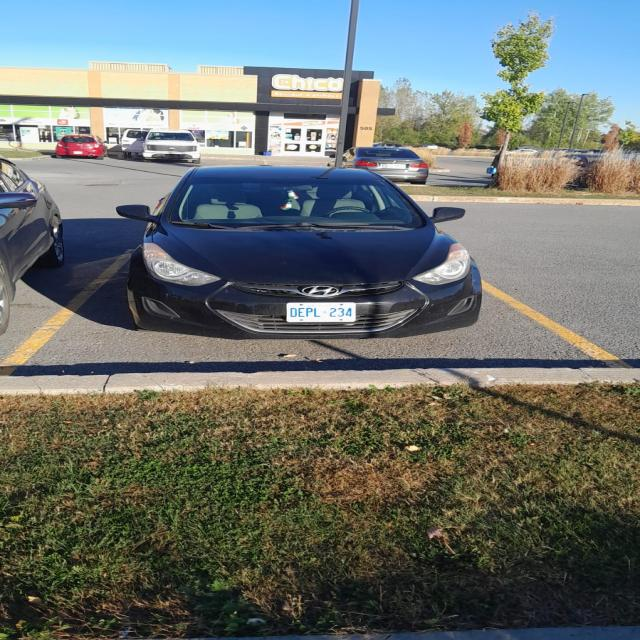plaque: (287, 303, 355, 323), (383, 164, 407, 169), (73, 150, 83, 155)
